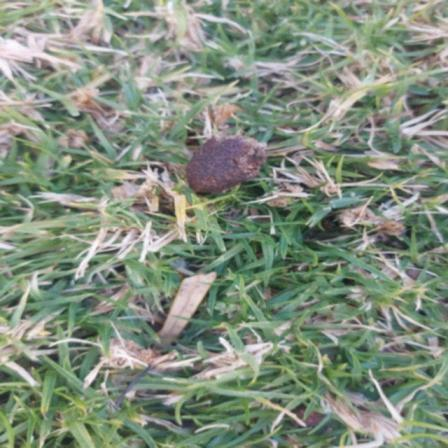dog-poop: (193, 135, 257, 189)
